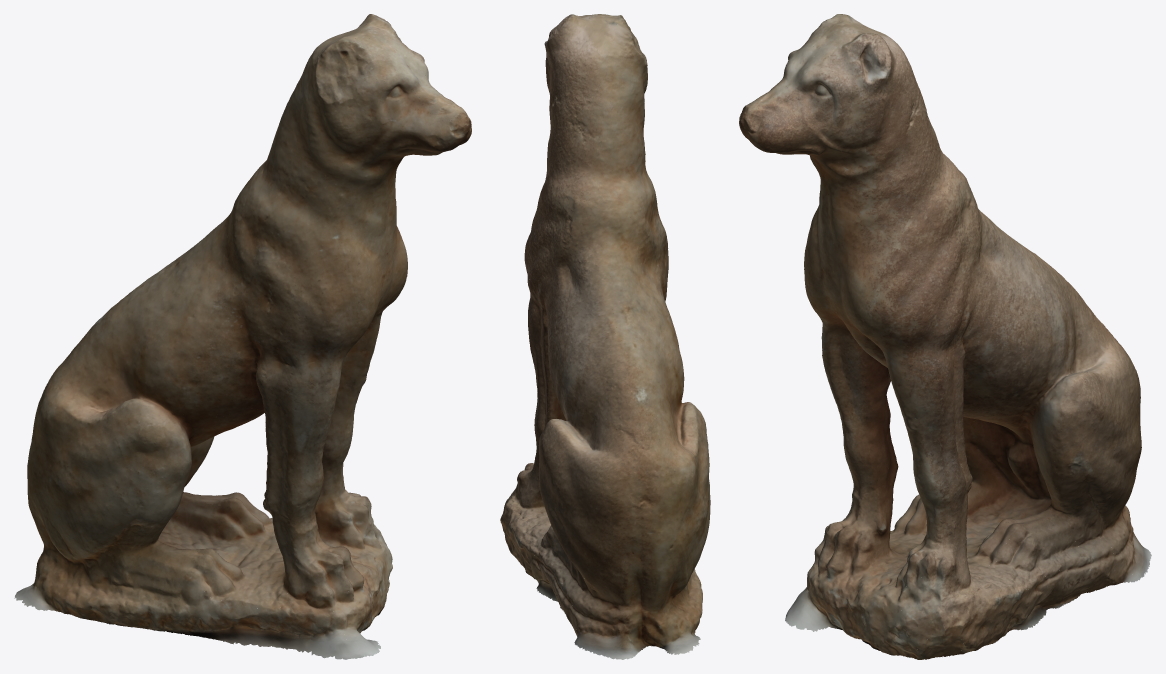
The model's file is dog statue.glb.
3 renders of one model, left to right at view 1: azimuth 30°, elevation 25°; view 2: azimuth 150°, elevation 25°; view 3: azimuth 270°, elevation 25°, orthographic. The views are drawn at different scales.
Visible parts, largest first — view 1: Object_4, Object_6, Object_3, Object_5, Object_2; view 2: Object_5, Object_3, Object_4, Object_6, Object_2; view 3: Object_4, Object_3, Object_6, Object_5, Object_2.
Part boxes in pixels (x1,y1,x2,y2): Object_4: [32, 41, 407, 656]; Object_6: [28, 156, 386, 659]; Object_3: [14, 14, 423, 618]; Object_5: [79, 14, 471, 609]; Object_2: [60, 37, 466, 619]; Object_5: [538, 19, 710, 537]; Object_3: [528, 14, 708, 659]; Object_4: [510, 20, 709, 642]; Object_6: [500, 167, 708, 642]; Object_2: [604, 14, 659, 448]; Object_4: [785, 62, 1132, 658]; Object_3: [804, 16, 1151, 580]; Object_6: [786, 170, 1140, 659]; Object_5: [739, 15, 1139, 659]; Object_2: [744, 14, 1091, 619].
Size of the model in its own units: 0.201 by 0.3936 by 0.2393.
Materials: 5 (5 with a texture image).
